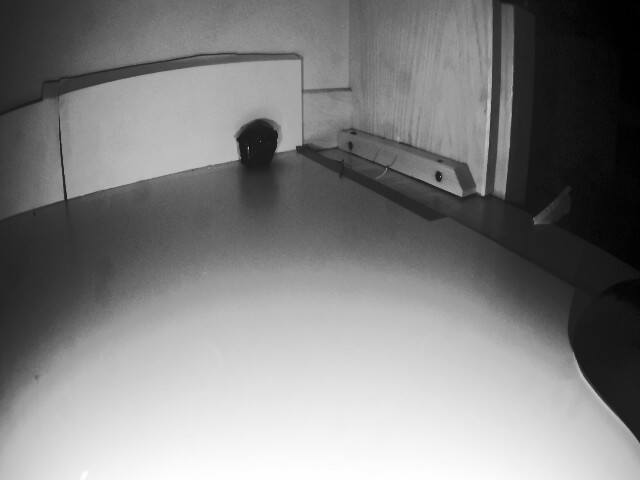black: (231, 125, 279, 166)
